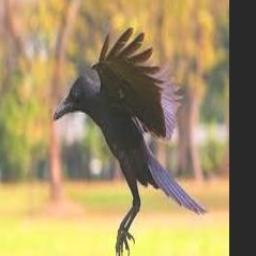Crow: (54, 28, 209, 256)
